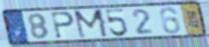2: (132, 8, 156, 36)
5: (104, 7, 130, 38)
6: (158, 6, 182, 35)
8: (27, 12, 51, 40)
M: (72, 8, 111, 40)
P: (50, 11, 76, 40)
